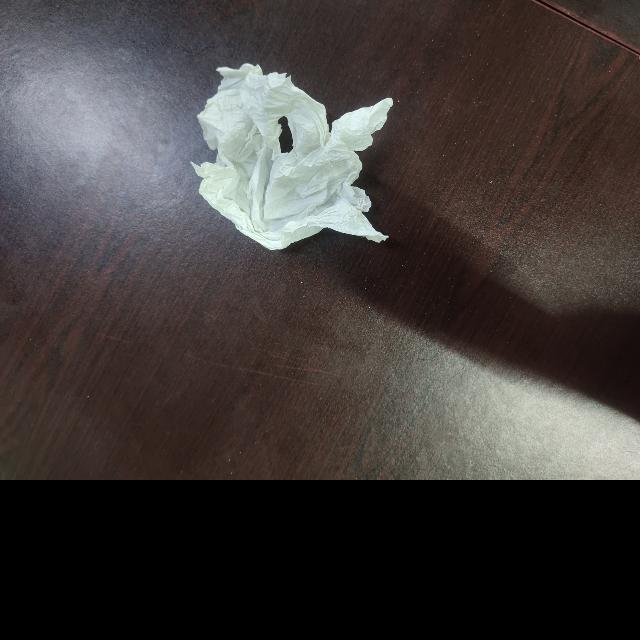kitchen paper: (190, 62, 399, 256)
